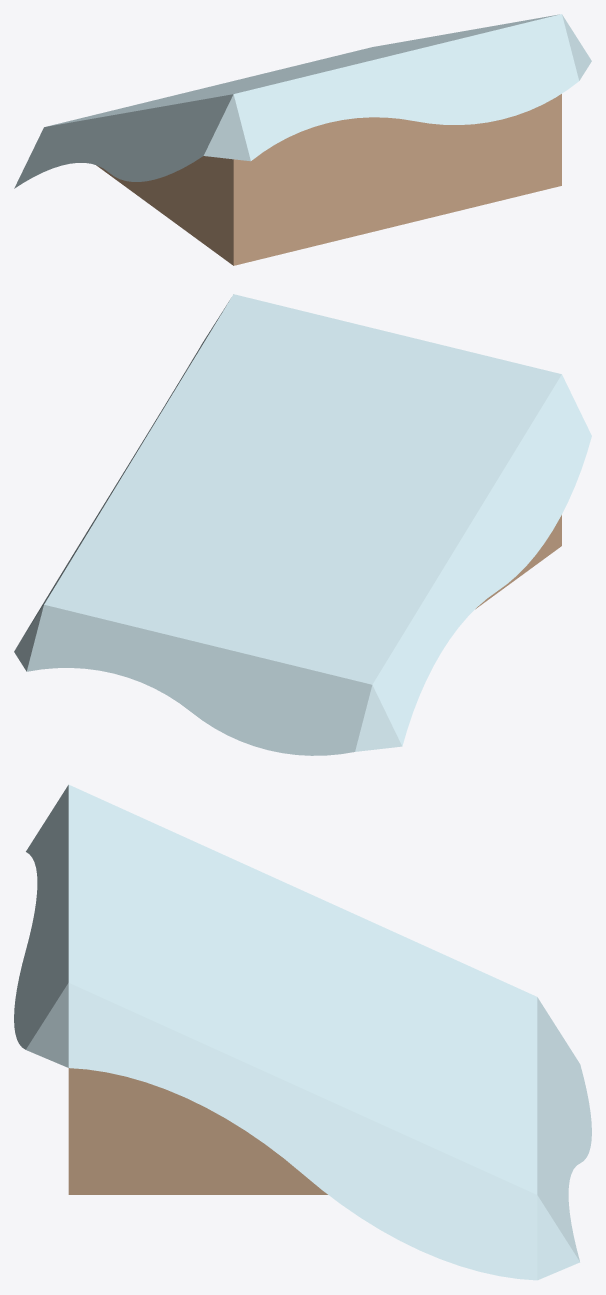
The model's file is blockSnowSlopeHalf.glb.
3 views of the same model, one above another, from view 1: azimuth 30°, elevation 25°; view 2: azimuth 150°, elevation 25°; view 3: azimuth 270°, elevation 25° (orthographic). The views are drawn at different scales.
Parts seen in each view (by area): view 1: blockSnowSlopeHalf(Clone); view 2: blockSnowSlopeHalf(Clone); view 3: blockSnowSlopeHalf(Clone).
Part boxes in pixels (<box>): blockSnowSlopeHalf(Clone): <box>14,14,591,265</box>; blockSnowSlopeHalf(Clone): <box>14,294,591,755</box>; blockSnowSlopeHalf(Clone): <box>14,784,591,1280</box>.
Size of the model in its own units: 1.23 by 0.7018 by 1.23.
